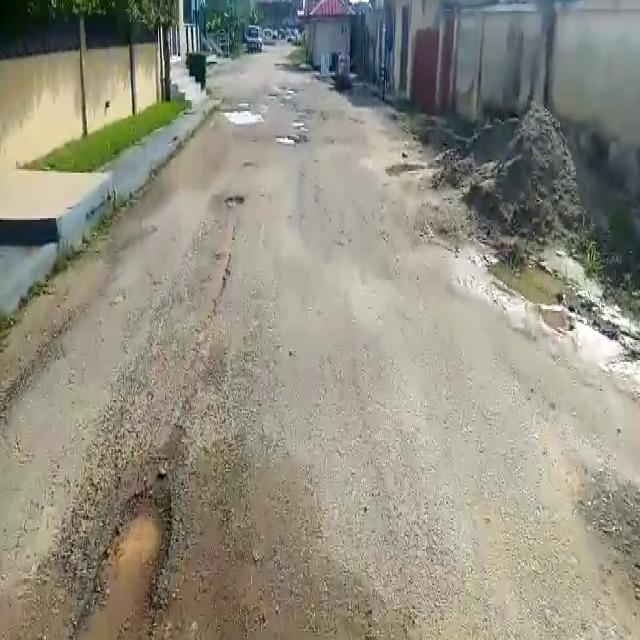Pothole: (68, 492, 172, 640), (217, 107, 265, 123), (274, 133, 308, 145), (222, 192, 244, 209)
